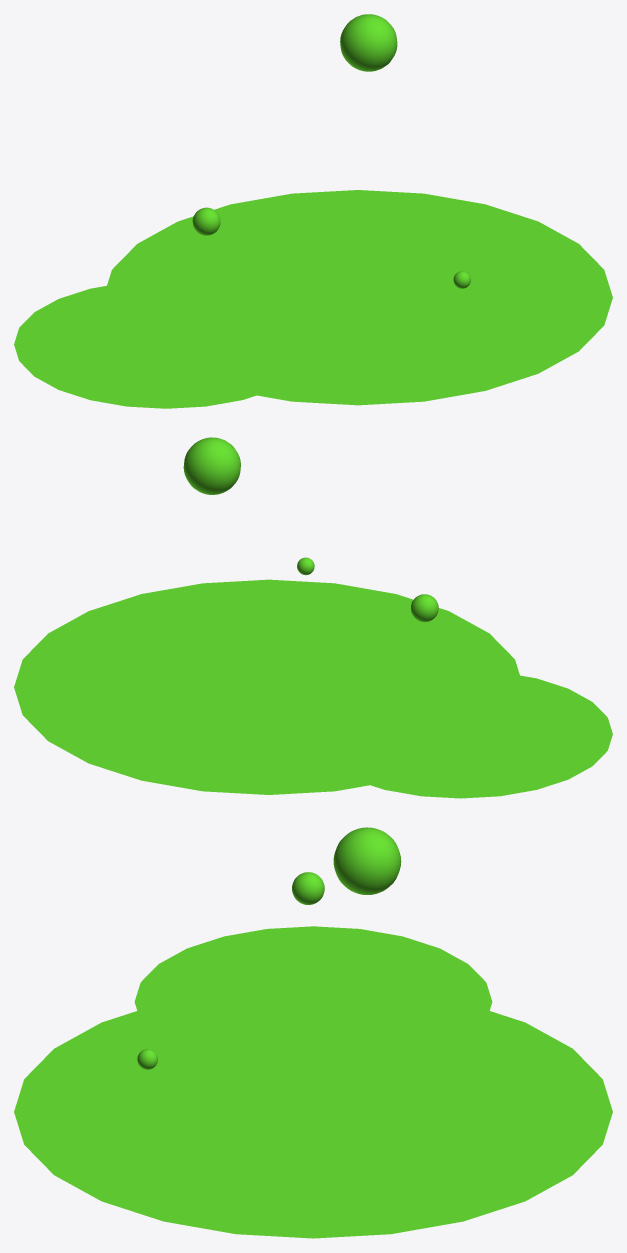
The model's file is AcidPool.fbx.
3 views of the same model, one above another, from view 1: azimuth 30°, elevation 25°; view 2: azimuth 150°, elevation 25°; view 3: azimuth 270°, elevation 25° (orthographic). The views are drawn at different scales.
Parts seen in each view (by area): view 1: pDisc1, pDisc2, pSphere2, pSphere1; view 2: pDisc1, pDisc2, pSphere2, pSphere1; view 3: pDisc1, pDisc2, pSphere2, pSphere1.
Part boxes in pixels (bbox=[...]): pDisc1: bbox=[103, 190, 612, 405]; pDisc2: bbox=[14, 280, 313, 408]; pSphere2: bbox=[340, 14, 397, 71]; pSphere1: bbox=[192, 207, 220, 235]; pDisc1: bbox=[14, 579, 522, 794]; pDisc2: bbox=[308, 670, 612, 798]; pSphere2: bbox=[183, 437, 240, 494]; pSphere1: bbox=[410, 594, 438, 622]; pDisc1: bbox=[14, 985, 612, 1238]; pDisc2: bbox=[134, 926, 492, 1077]; pSphere2: bbox=[333, 827, 401, 894]; pSphere1: bbox=[292, 872, 324, 904].
Bounding box in the file's own units: 351 × 158 × 285.
